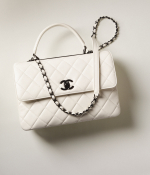channel: (14, 57, 128, 127), (38, 62, 59, 116), (55, 75, 82, 93)
